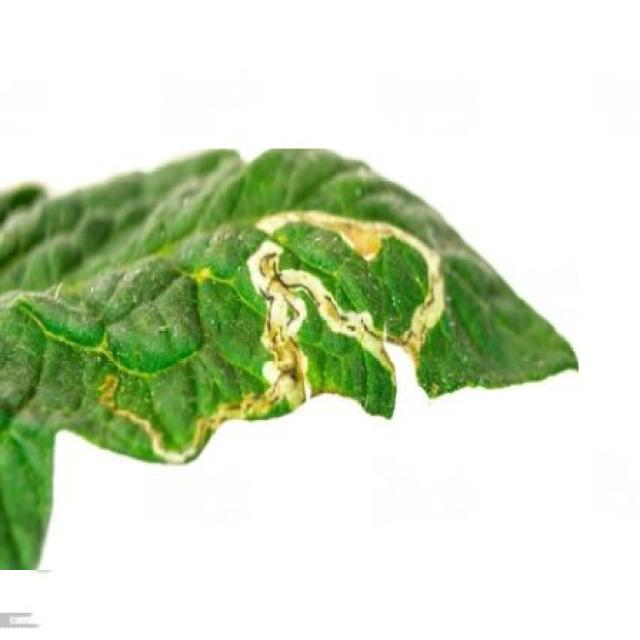Leaf Miner: (0, 149, 579, 570)
